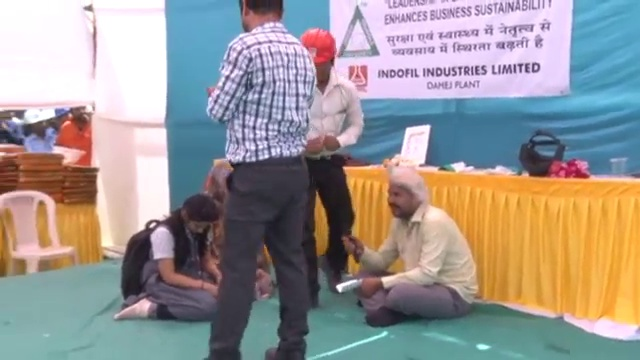helmet: (296, 27, 338, 66), (50, 146, 86, 168), (23, 109, 47, 127)
helmet_off: (379, 168, 430, 224), (175, 193, 219, 240), (235, 0, 288, 32), (71, 106, 91, 126)
helmet_on: (297, 26, 338, 87), (23, 110, 48, 137)
person: (205, 1, 318, 359), (340, 160, 480, 328), (295, 26, 367, 303), (112, 192, 225, 327), (56, 105, 93, 166), (23, 110, 56, 152)
